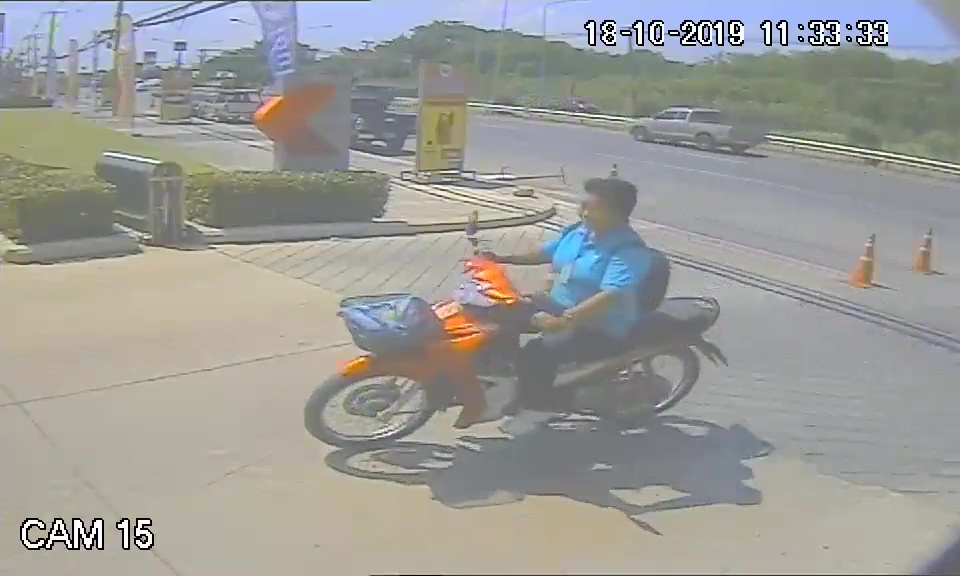motorcycle: (301, 255, 727, 449)
